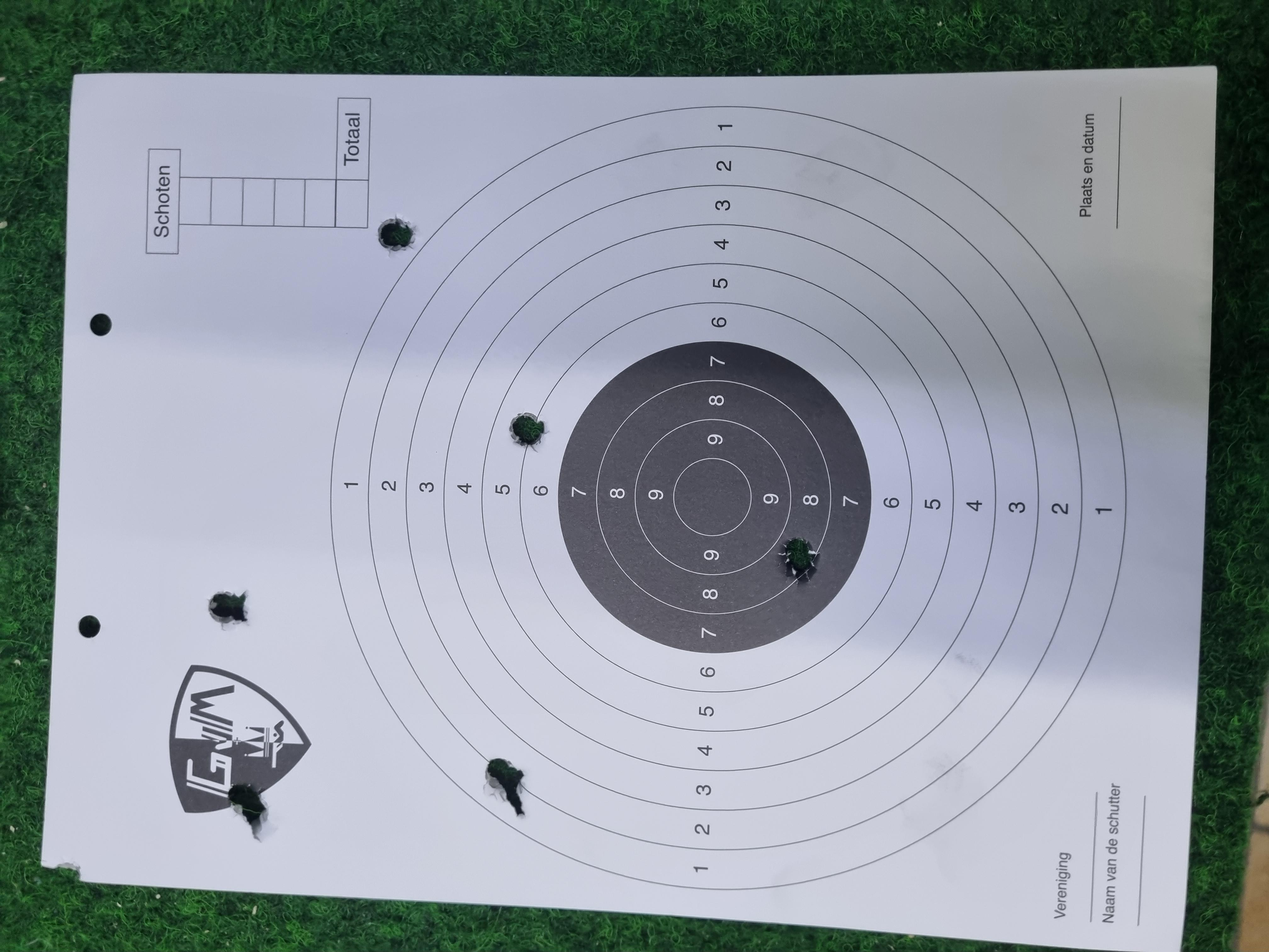hole: (176, 364, 257, 396), (146, 171, 224, 202), (488, 584, 555, 615), (429, 156, 483, 188), (666, 382, 721, 411), (932, 283, 981, 313)
